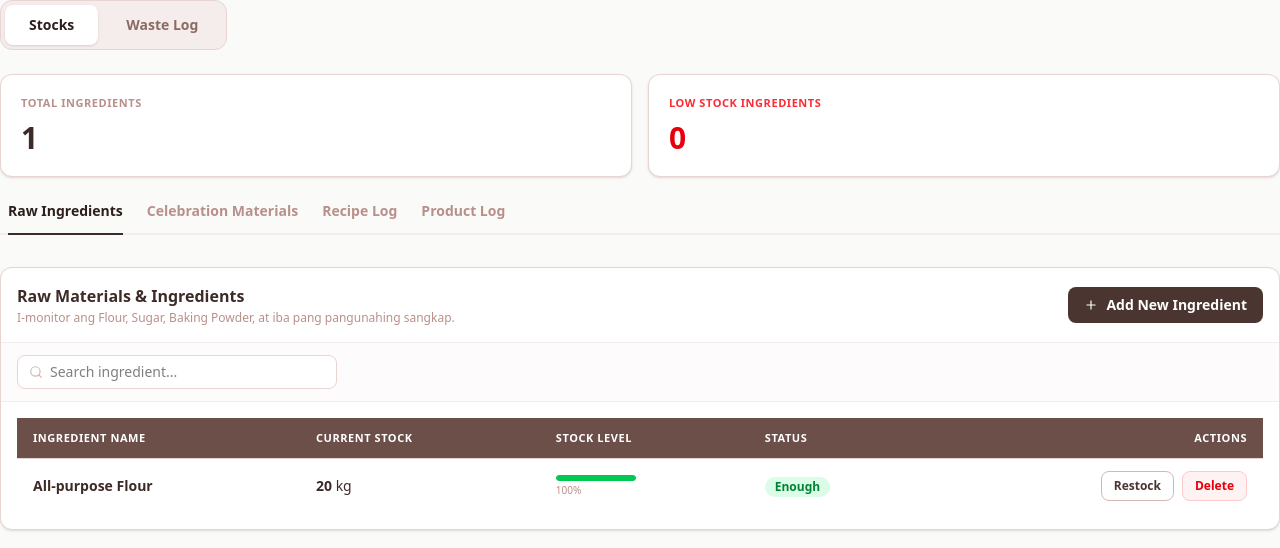
InventoryPage Inter-Component Integration (Real Child Tabs) › Waste Log main tab › should display zero Total Loss (Tantiya ng Lugi) and empty state initially when there are no logs
Step 1. Click the button "Waste Log" → click(162, 25), box x1=102 y1=5 x2=222 y2=45
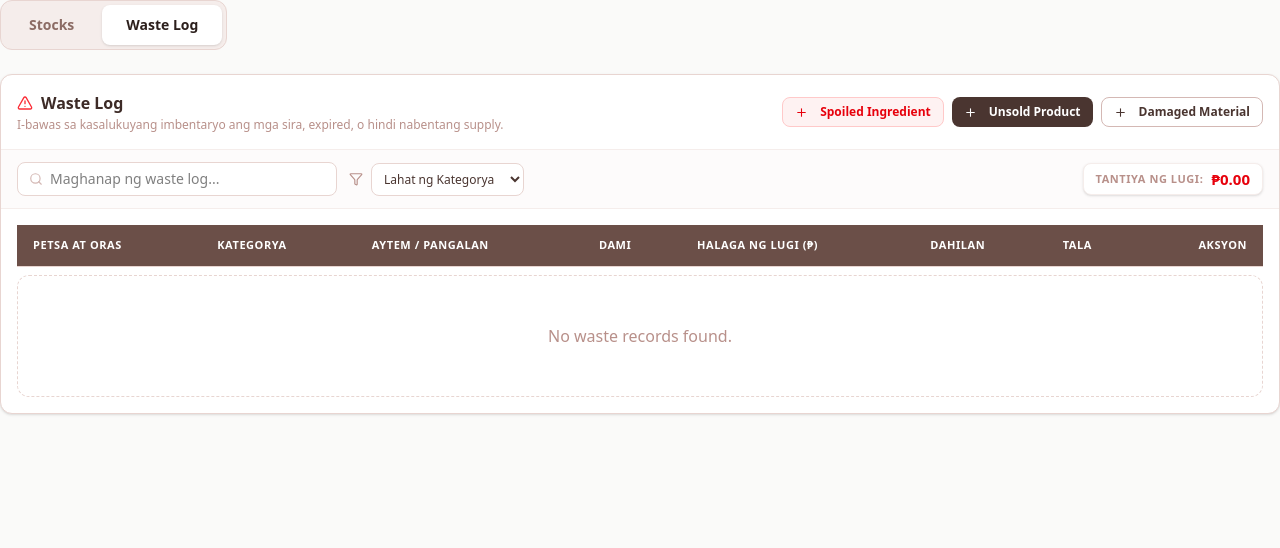
Result: the text "₱0.00" is shown at x1=1211 y1=170 x2=1250 y2=188
Result: the text "No waste records found." is shown at x1=17 y1=274 x2=1263 y2=396
